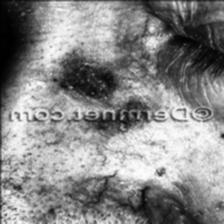Potentially Malignant Skin Tumors: (52, 50, 122, 99), (89, 122, 146, 134), (114, 96, 159, 108)
